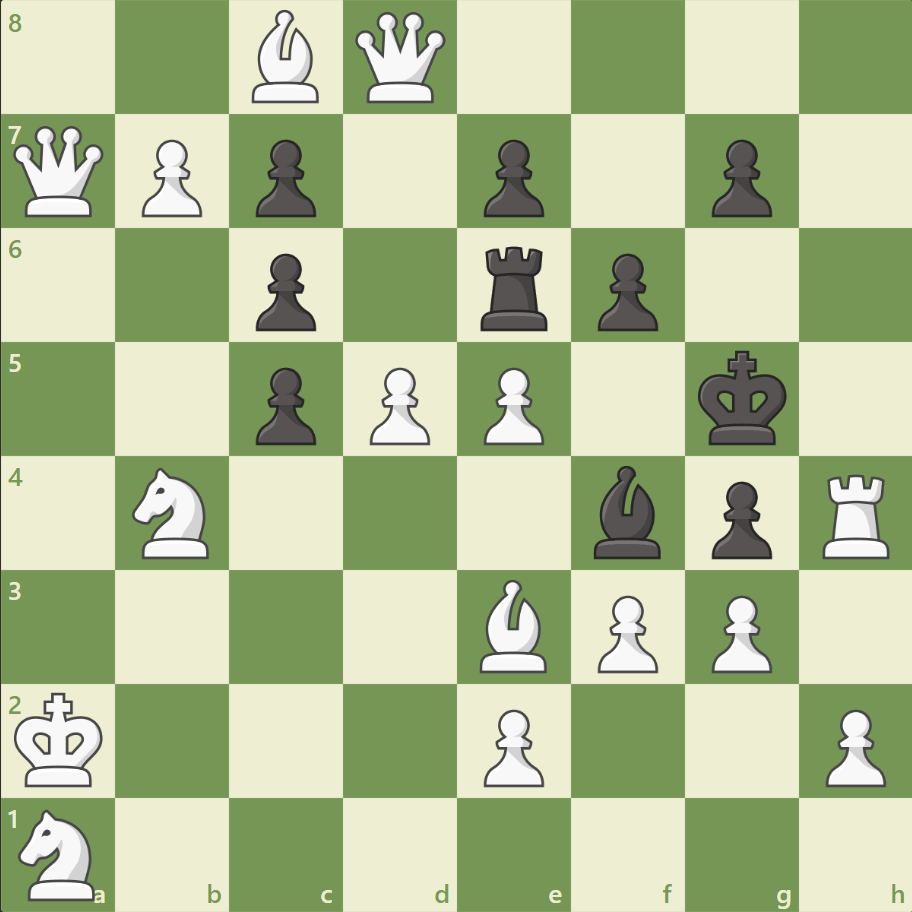B: (244, 6, 328, 109), (471, 574, 555, 676)
K: (11, 685, 111, 793)
N: (124, 461, 222, 564), (11, 802, 108, 904)
P: (133, 132, 208, 223), (474, 359, 549, 450), (701, 586, 776, 677), (474, 700, 549, 791), (361, 359, 435, 450), (588, 586, 662, 677), (815, 700, 889, 791)
Q: (10, 122, 109, 222), (351, 9, 450, 108)
R: (814, 466, 897, 563)
b: (585, 460, 669, 563)
k: (692, 344, 792, 452)
p: (247, 132, 322, 223), (474, 132, 549, 223), (701, 132, 776, 223), (247, 246, 322, 337), (247, 359, 322, 450), (701, 473, 776, 564), (588, 246, 662, 337)
r: (473, 239, 556, 336)
